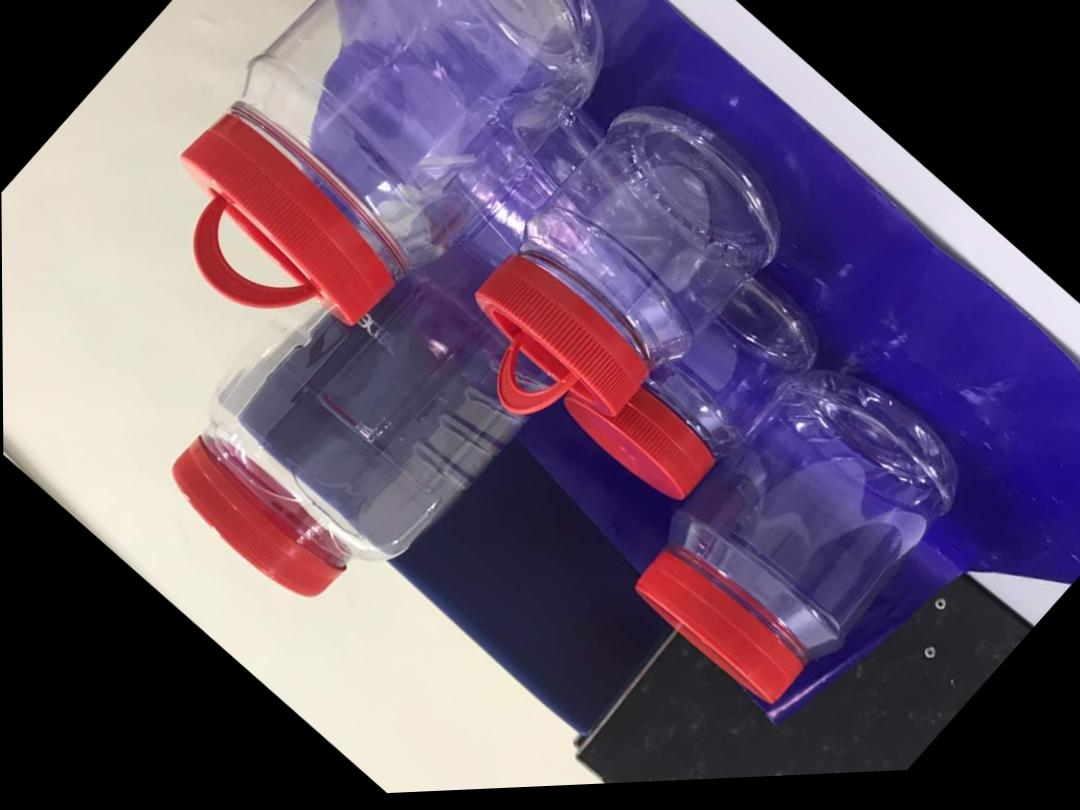plastic: (412, 58, 880, 544), (118, 0, 651, 403), (140, 205, 567, 653), (616, 334, 990, 726)
